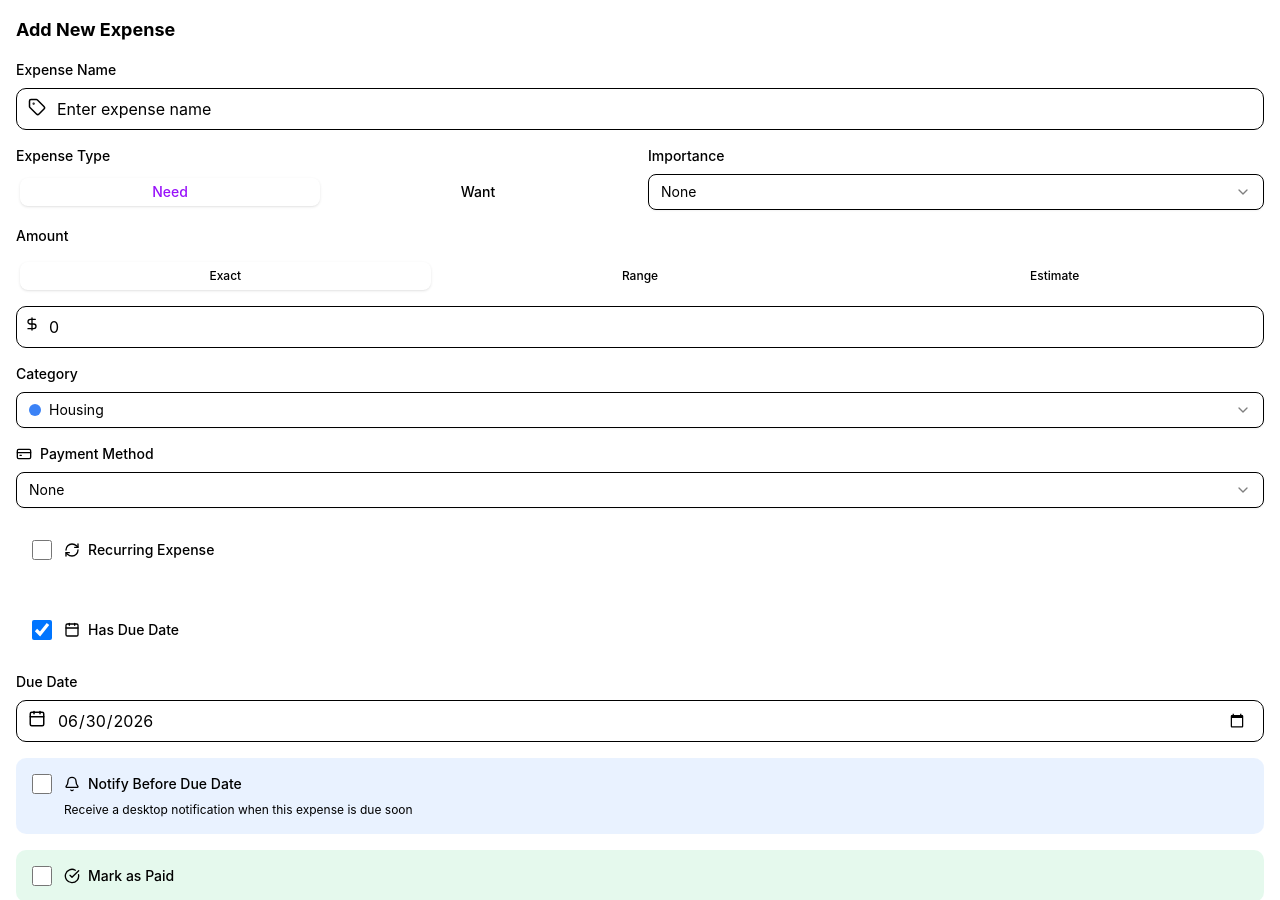
Test: ExpenseFormPage › Creating a new expense › switches amount type and carries the value over
Note: Enter an exact amount
Replace the text in the number field with placeholder "0.00" with "50" at x=640, y=327, box [16,306,1264,348]
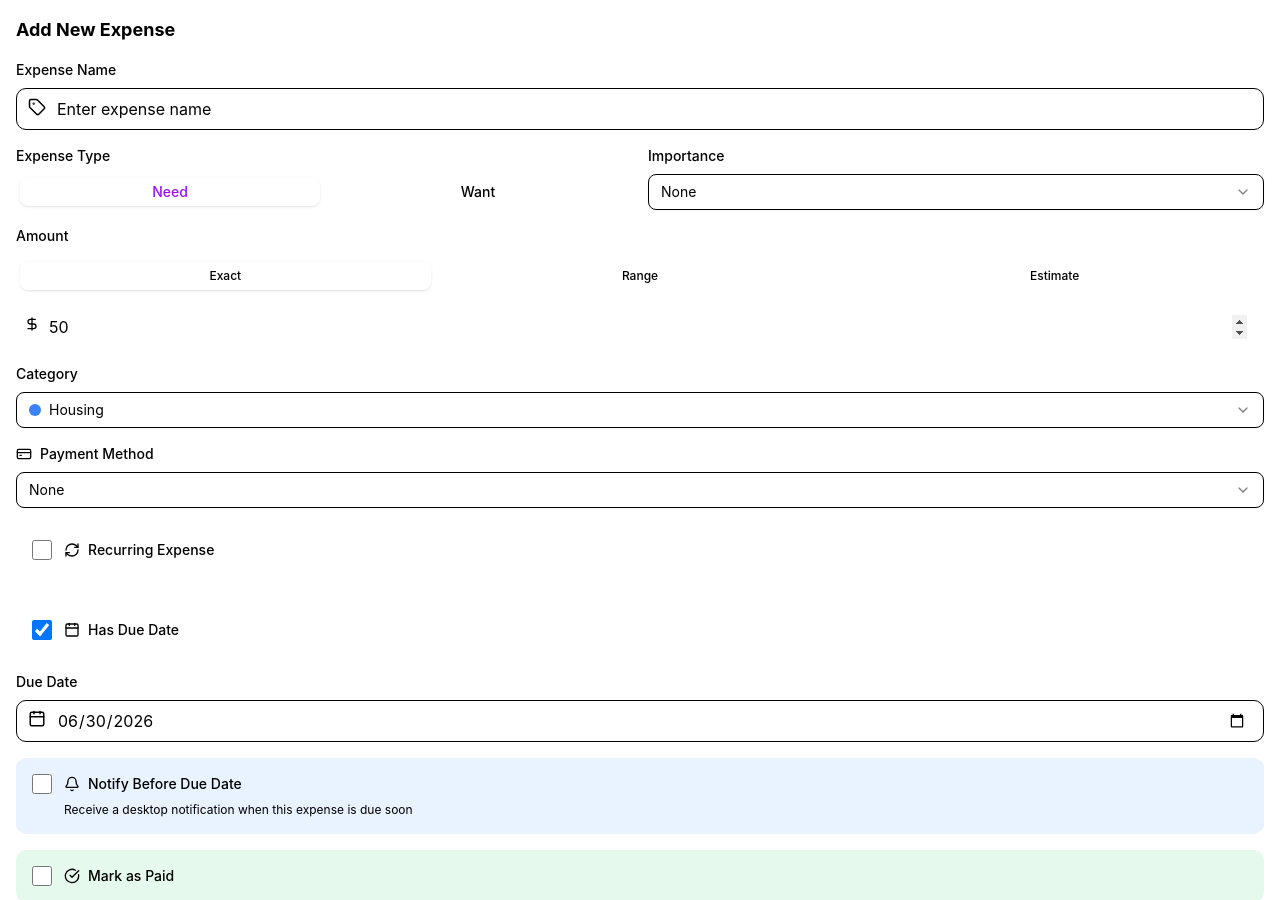
Note: Switch to range
Click the button "range" at x=640, y=276, box [435,262,845,290]
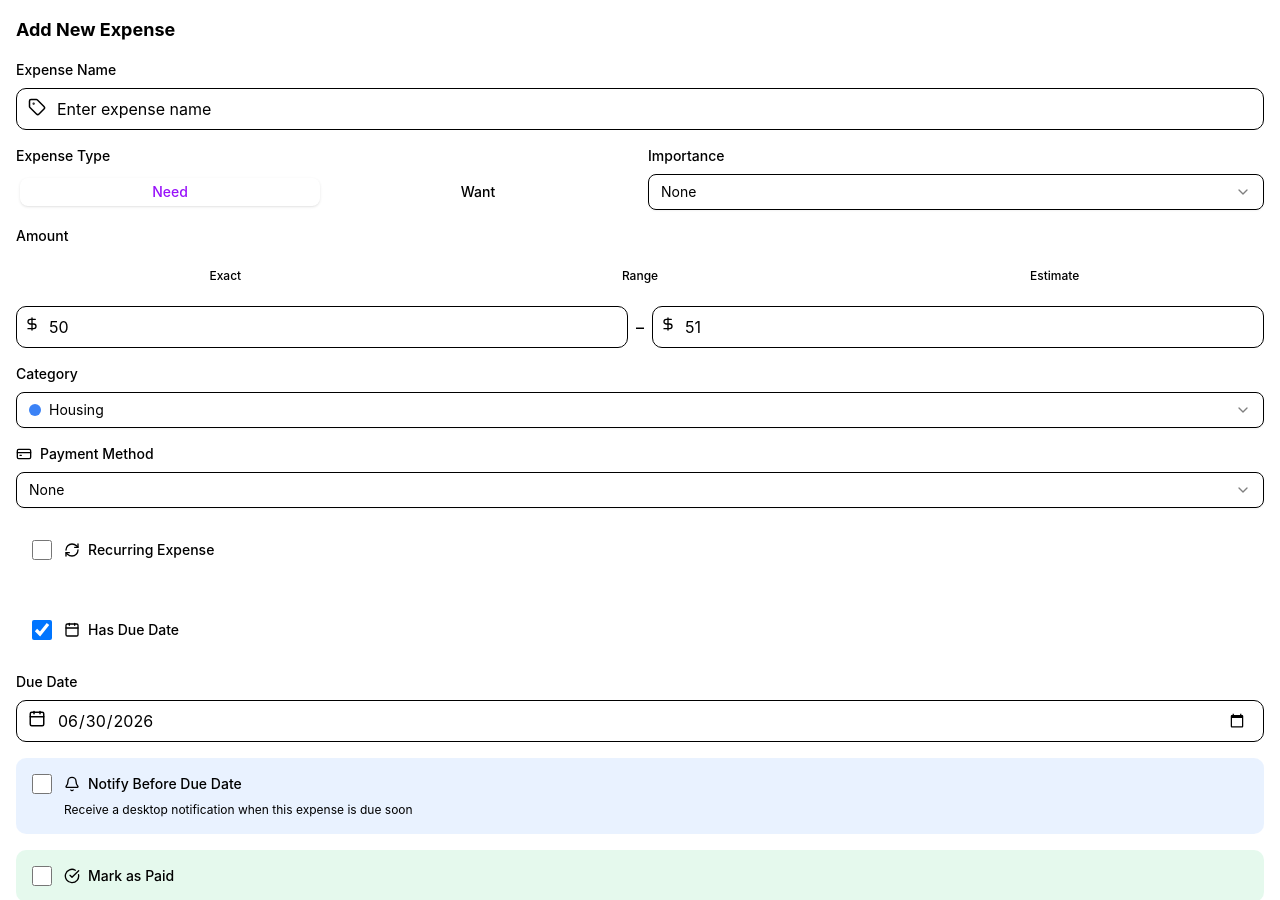
Result: the 1st number field with placeholder "Min" holds "50" at [16,306,628,348]
Result: the 2nd number field with placeholder "Max" holds "51" at [652,306,1264,348]
